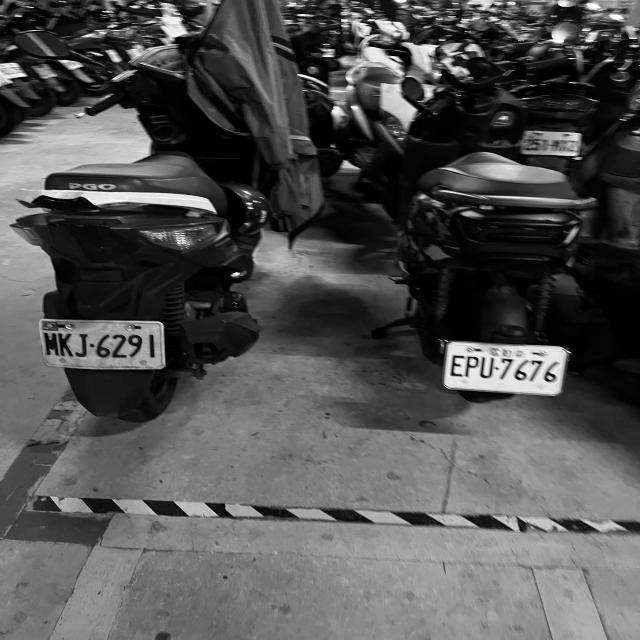-: (89, 342, 94, 349), (494, 366, 499, 370)
1: (143, 332, 158, 361)
2: (110, 333, 128, 359)
6: (95, 333, 111, 358), (514, 359, 528, 382), (545, 361, 559, 383)
7: (500, 357, 513, 380), (530, 359, 542, 382)
9: (127, 334, 143, 358)
E: (450, 353, 464, 379)
J: (74, 333, 89, 357)
K: (58, 332, 74, 358)
M: (42, 332, 59, 356)
U: (479, 356, 495, 378)
plate: (39, 319, 162, 371), (446, 343, 564, 394), (465, 356, 479, 378)
